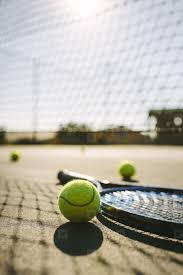tennis_ball: (58, 179, 100, 222), (119, 162, 135, 178), (10, 151, 20, 162)
